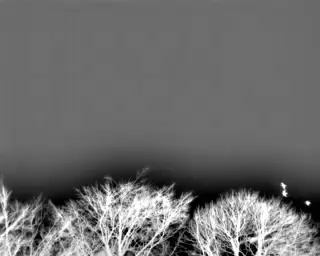BIRD: (304, 198, 312, 208)
